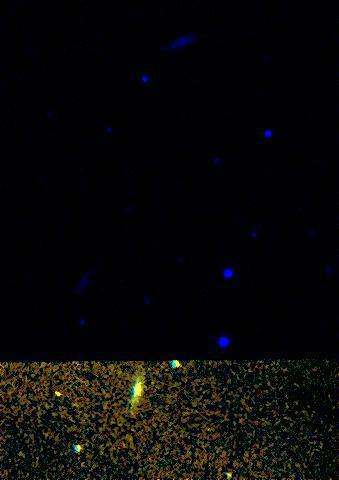star: (44, 380, 74, 410)
